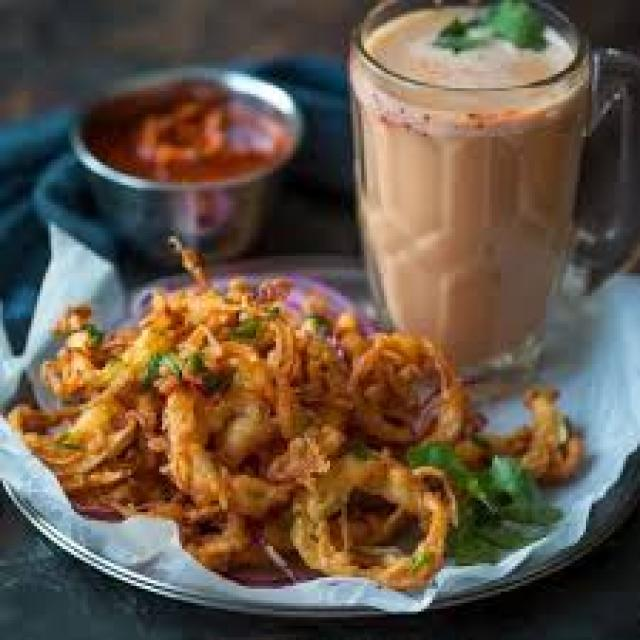BAJI: (0, 236, 616, 602)
